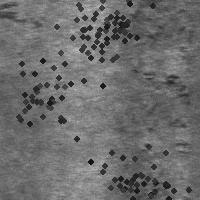rolled-in_scale: (0, 45, 97, 153), (43, 0, 155, 83), (81, 122, 195, 200), (125, 4, 199, 117), (114, 119, 158, 199), (98, 2, 168, 51), (1, 1, 45, 28)
